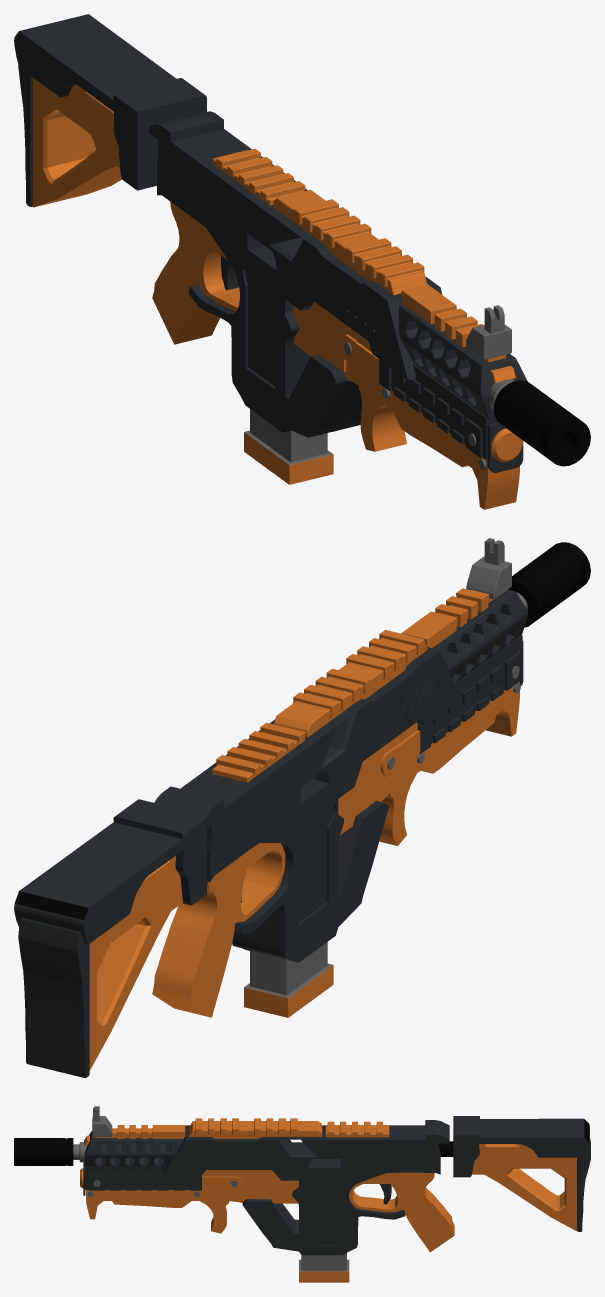
Rendered from Rifle.fbx.
The picture shows the model from 3 angles, top to bottom: view 1: azimuth 30°, elevation 25°; view 2: azimuth 150°, elevation 25°; view 3: azimuth 270°, elevation 25°; orthographic projection. The views are drawn at different scales.
Parts seen in each view (by area): view 1: MainBody, Mag; view 2: MainBody, Mag; view 3: MainBody, Mag.
Boxes of the visible parts, x1,y1,x2,y2 form: MainBody: (14, 14, 590, 509); Mag: (244, 409, 333, 484); MainBody: (14, 538, 590, 1077); Mag: (244, 942, 333, 1017); MainBody: (14, 1106, 590, 1255); Mag: (299, 1253, 349, 1282).
Bounding box in the file's own units: 26.98 × 113 × 350.
